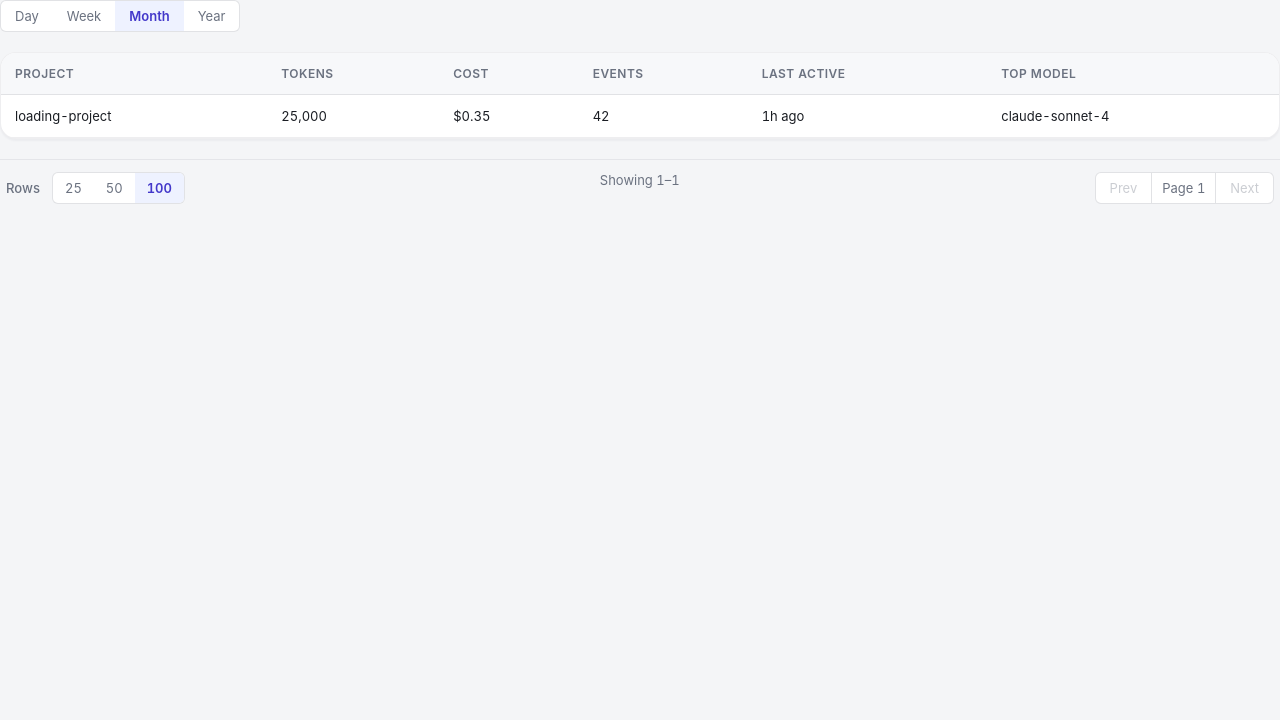
Test: ProjectsPage › shows detail drawer loading state
This screenshot has width=1280, height=720.
Click the text "loading-project": (134, 116) left=1, top=94, right=267, bottom=138
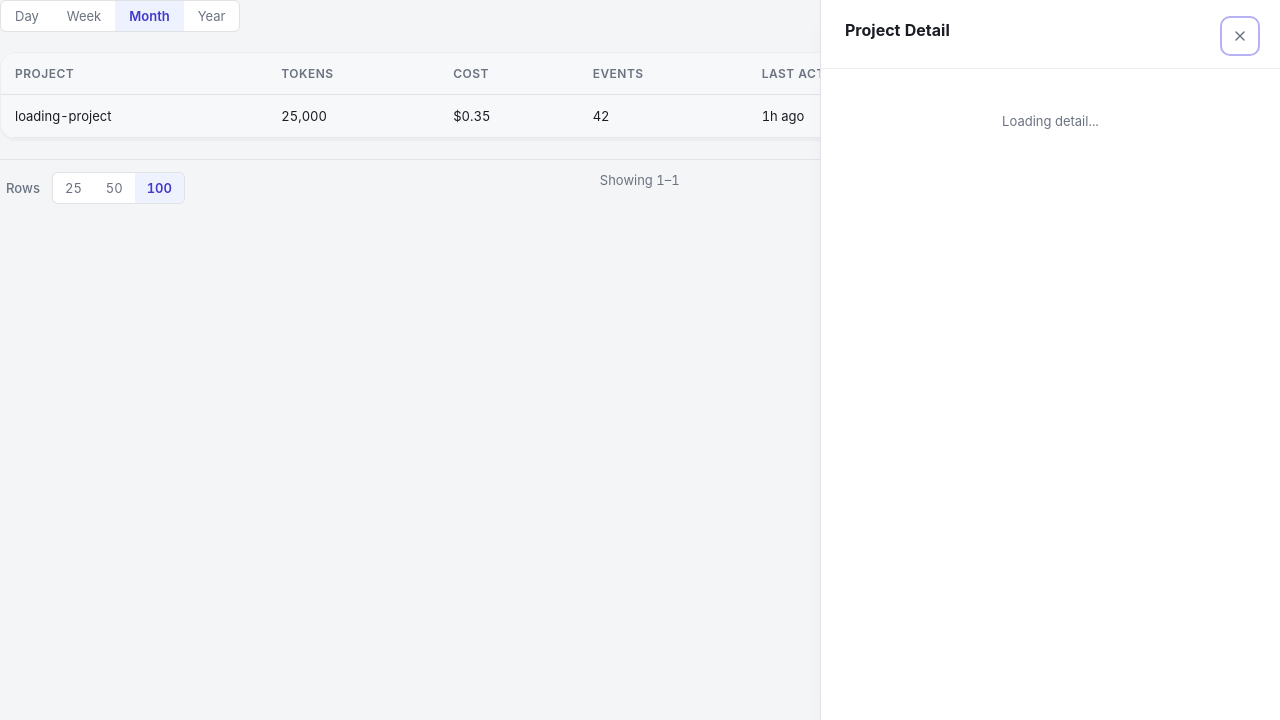
Result: the text "Loading detail..." is shown at left=1002, top=113, right=1099, bottom=129
